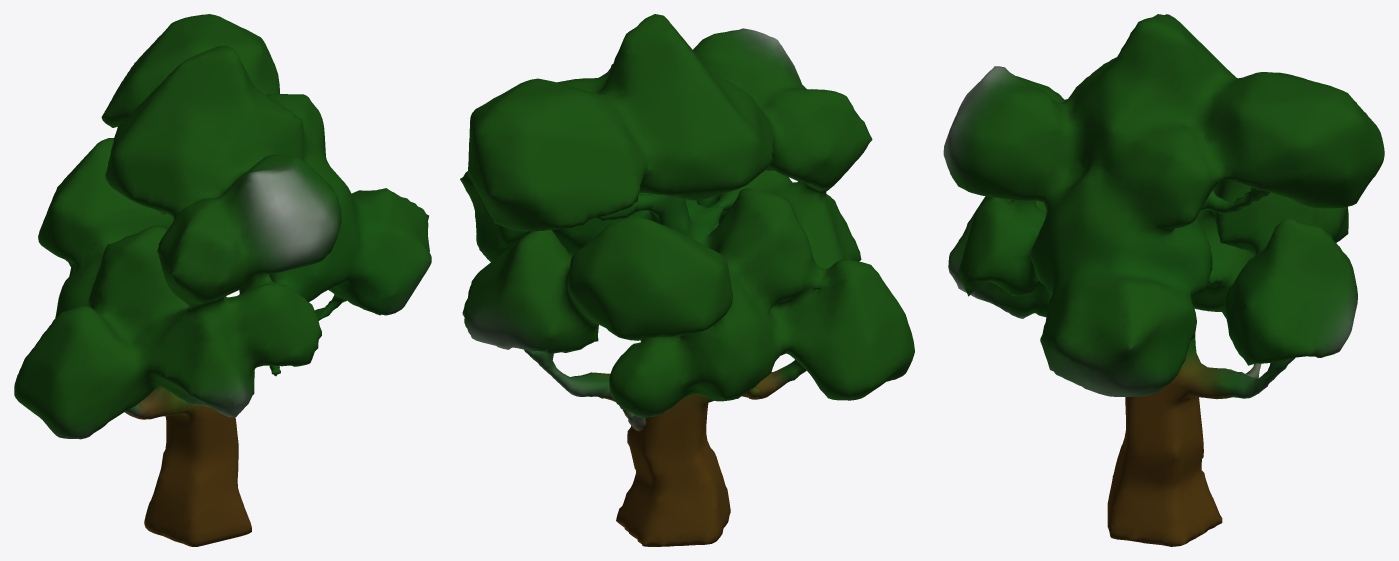
The model's file is Blobbed_1.glb.
The picture shows the model from 3 angles, left to right: view 1: azimuth 30°, elevation 25°; view 2: azimuth 150°, elevation 25°; view 3: azimuth 270°, elevation 25°; orthographic projection. The views are drawn at different scales.
Visible parts, largest first — view 1: Blobbed_1; view 2: Blobbed_1; view 3: Blobbed_1.
Boxes of the visible parts, box(x1,y1,x2,y2) form: Blobbed_1: box(14, 14, 431, 546); Blobbed_1: box(460, 14, 914, 546); Blobbed_1: box(943, 14, 1384, 546).
Size of the model in its own units: 3.8 by 4.24 by 3.28.
